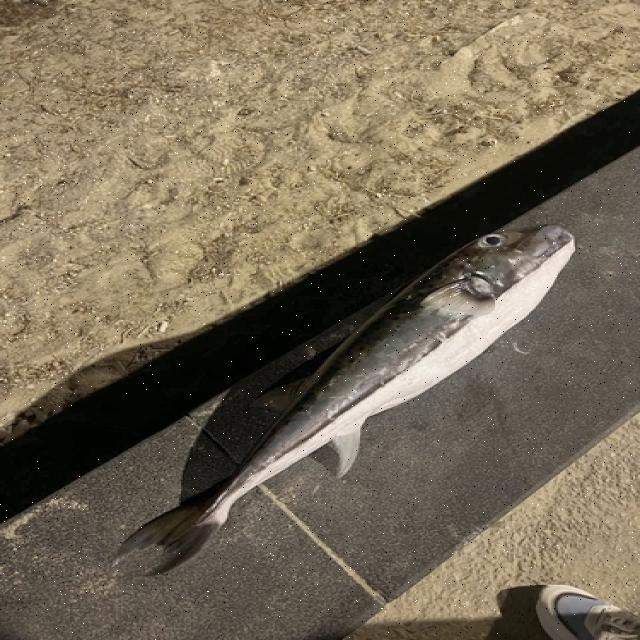Balik: (118, 226, 575, 573)
